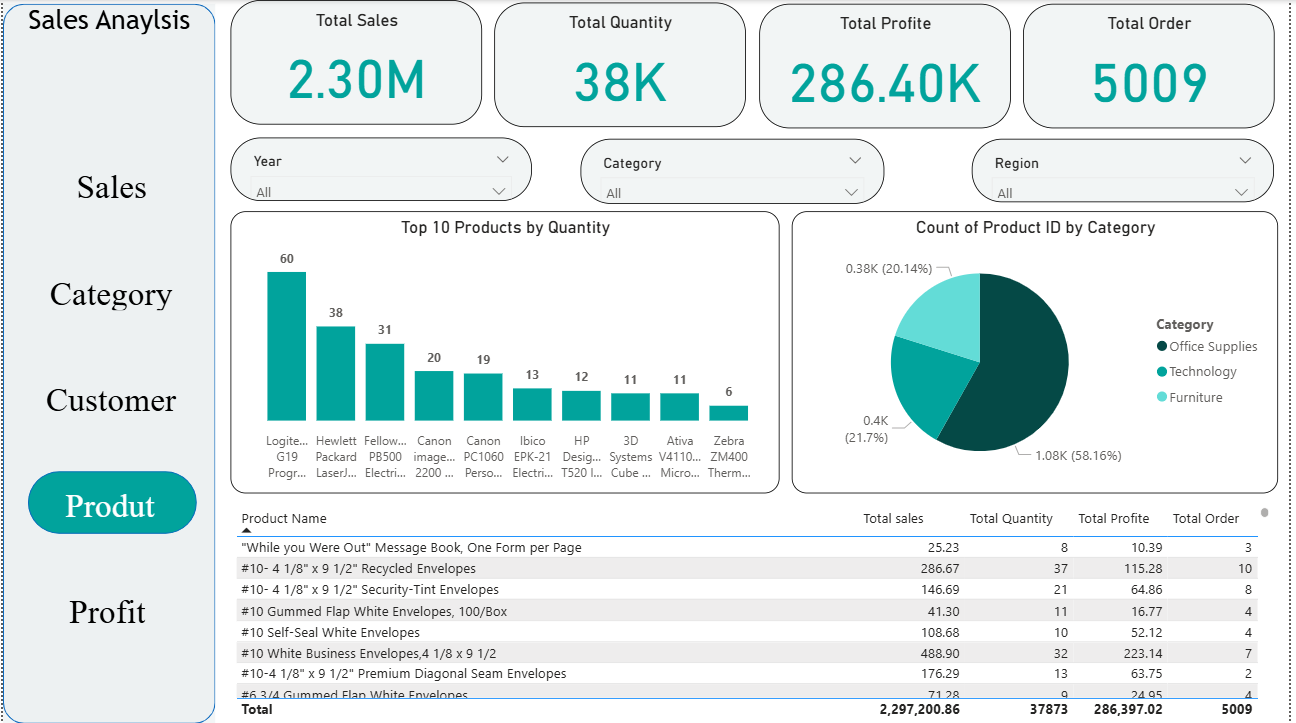

The dashboard page shown, as its layout file describes it:
{"tool":"powerbi","page":{"name":"Produt","canvas":[1280,720],"ordinal":4},"visuals":[{"type":"card","title":"Total Sales","fields":{"Values":["DaxMeasure.Total sales"]},"box":[226.4,0,250,124.4],"z":0},{"type":"card","title":"Total Quantity","fields":{"Values":["DaxMeasure.Total Quantity"]},"box":[489.3,2.9,250,124.4],"z":1000},{"type":"card","title":"Total Profite","fields":{"Values":["DaxMeasure.Total Profite"]},"box":[752.2,3.7,250,124.4],"z":2000},{"type":"card","title":"Total Order","fields":{"Values":["DaxMeasure.Total Order"]},"box":[1015.1,3.7,250,124.4],"z":3000},{"type":"shape","box":[0,3.7,211.5,716.5],"z":4000},{"type":"slicer","fields":{"Values":["DateDim.Order Date.Variation.Date Hierarchy.Year"]},"box":[226.4,136.8,299.8,63.4],"z":5000},{"type":"slicer","fields":{"Values":["ProductDim.Category"]},"box":[574.7,138.1,302.3,64.7],"z":6000},{"type":"slicer","fields":{"Values":["CustomerDim.Region"]},"box":[964.1,138.1,301,63.4],"z":7000},{"type":"shape","box":[24.9,469,167.9,62.2],"z":8000},{"type":"actionButton","box":[33.6,585.9,140.6,41.1],"z":9000},{"type":"actionButton","box":[41.1,268.7,133.1,39.8],"z":10000},{"type":"actionButton","box":[58.5,163,99.5,39.8],"z":11000},{"type":"actionButton","box":[33.6,374.4,148,39.8],"z":12000},{"type":"actionButton","box":[39.8,480.2,133.1,39.8],"z":13000},{"type":"clusteredColumnChart","title":"Top 10 Products by Quantity","fields":{"Category":["ProductDim.Product Name"],"Y":["DaxMeasure.Total Quantity"]},"box":[226.4,210.2,546.1,281.1],"z":14000},{"type":"pieChart","title":"Count of Product  by Category","fields":{"Y":["CountNonNull(ProductDim.Product ID)"],"Category":["ProductDim.Category"]},"box":[784.9,210.2,483.9,281.1],"z":15000},{"type":"tableEx","fields":{"Values":["ProductDim.Product Name","DaxMeasure.Total sales","DaxMeasure.Total Quantity","DaxMeasure.Total Profite","DaxMeasure.Total Order"]},"box":[226.4,500.1,1038.7,220.2],"z":16000}]}

Visuals, with their boxes in screenshot pixels (x1, y1, x2, y2), scaled from the page's 1280x720 canvas onto the 1296x723 screenshot:
"Total Sales" card: (left=229, top=0, right=482, bottom=125)
"Total Quantity" card: (left=495, top=3, right=749, bottom=128)
"Total Profite" card: (left=762, top=4, right=1015, bottom=129)
"Total Order" card: (left=1028, top=4, right=1281, bottom=129)
shape: (left=0, top=4, right=214, bottom=722)
slicer - DateDim.Order Date.Variation.Date Hierarchy.Year: (left=229, top=137, right=533, bottom=201)
slicer - ProductDim.Category: (left=582, top=139, right=888, bottom=204)
slicer - CustomerDim.Region: (left=976, top=139, right=1281, bottom=202)
shape: (left=25, top=471, right=195, bottom=533)
actionButton: (left=34, top=588, right=176, bottom=630)
actionButton: (left=42, top=270, right=176, bottom=310)
actionButton: (left=59, top=164, right=160, bottom=204)
actionButton: (left=34, top=376, right=184, bottom=416)
actionButton: (left=40, top=482, right=175, bottom=522)
"Top 10 Products by Quantity" clusteredColumnChart: (left=229, top=211, right=782, bottom=493)
"Count of Product  by Category" pieChart: (left=795, top=211, right=1285, bottom=493)
tableEx - ProductDim.Product Name x DaxMeasure.Total sales: (left=229, top=502, right=1281, bottom=722)
